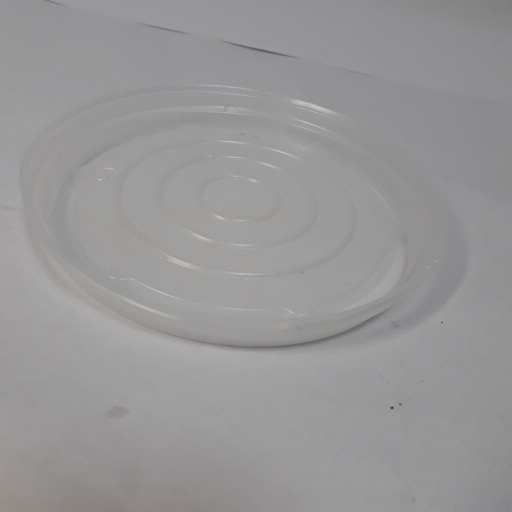Plastic_5: (19, 78, 459, 361)
